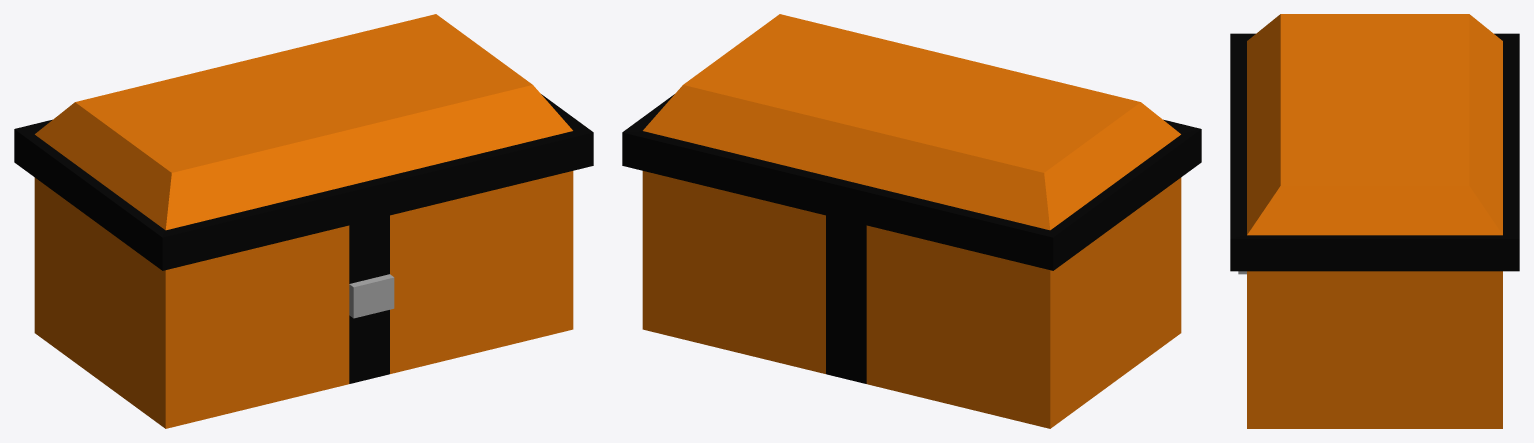
File: chest.fbx
3 views of the same model, side by side, from view 1: azimuth 30°, elevation 25°; view 2: azimuth 150°, elevation 25°; view 3: azimuth 270°, elevation 25° (orthographic). The views are drawn at different scales.
Parts seen in each view (by area): view 1: Cube; view 2: Cube; view 3: Cube.
Part boxes in pixels (x1=…): Cube: x1=14, y1=14, x2=593, y2=428; Cube: x1=622, y1=14, x2=1201, y2=428; Cube: x1=1230, y1=14, x2=1519, y2=428.
Size of the model in its own units: 380 by 200 by 226.
